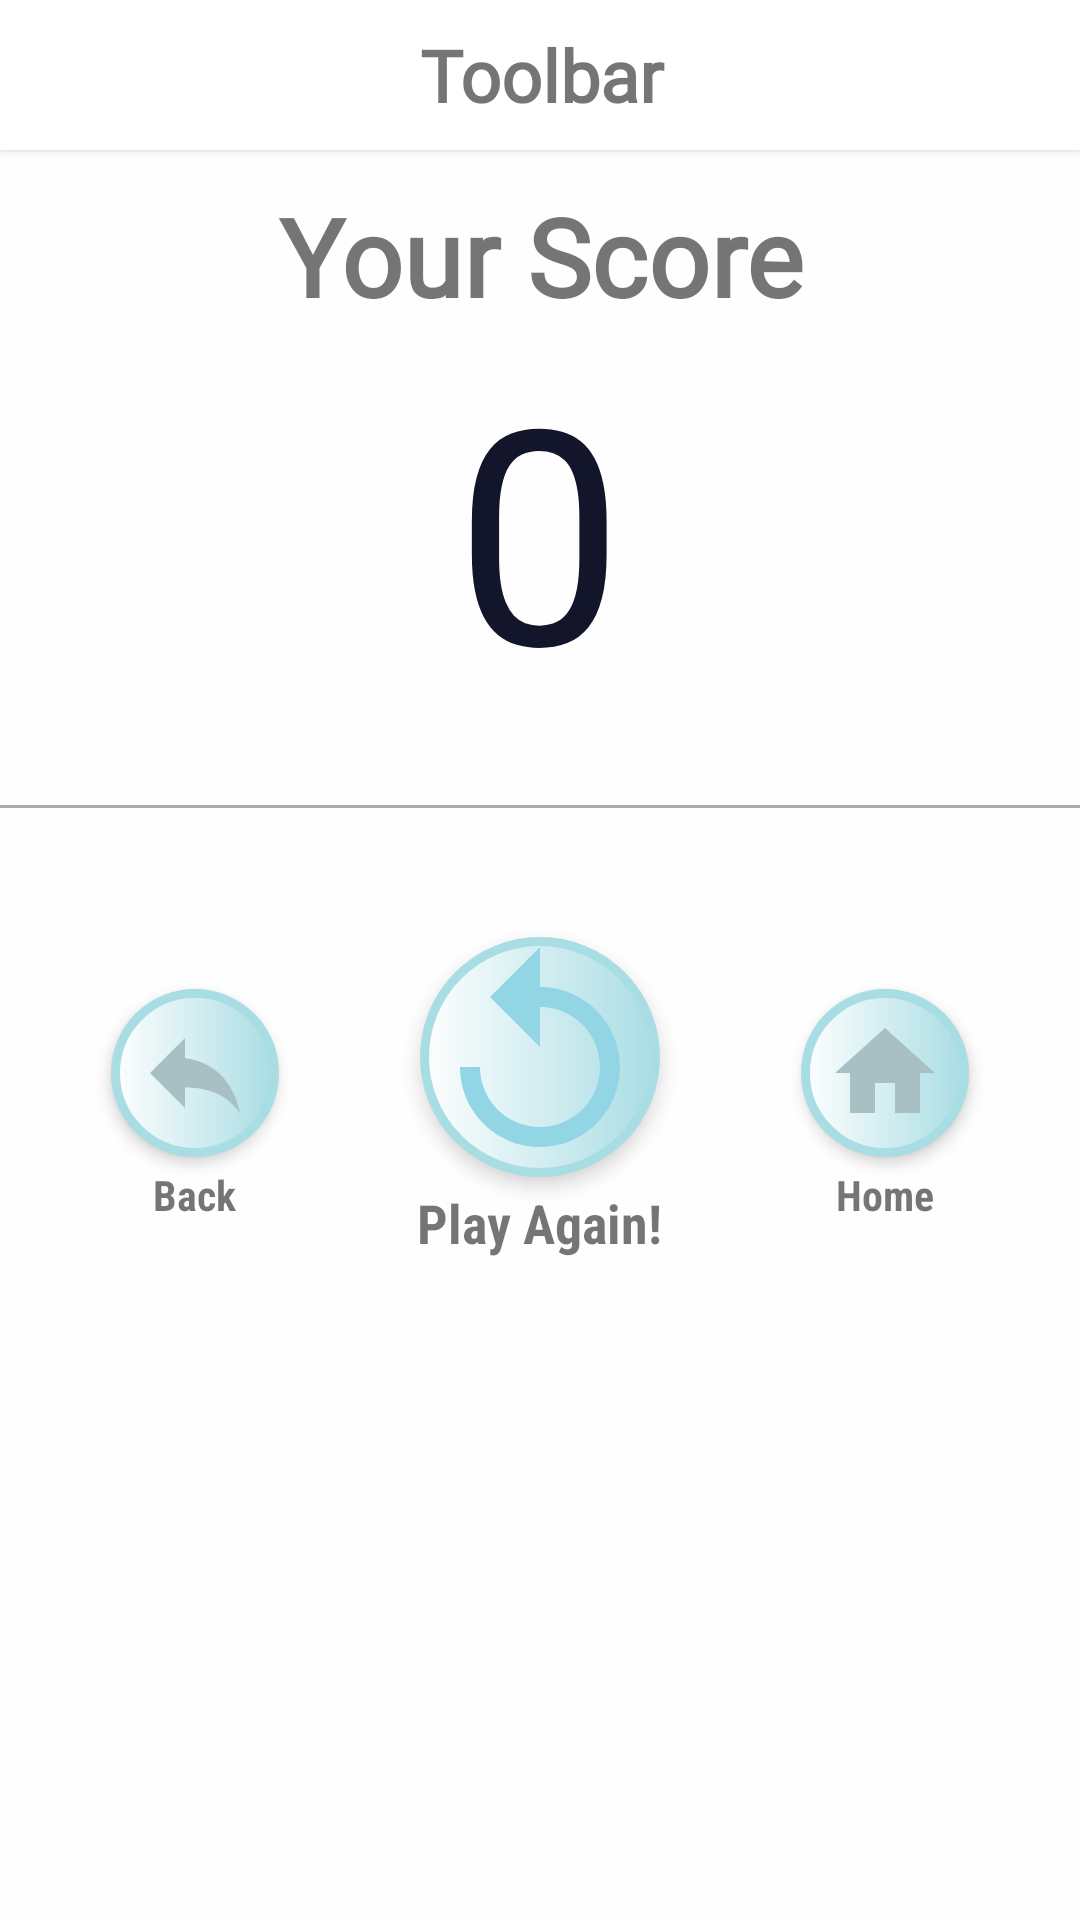

Screen size 1080×1920. Icon name, then its center in pixels as point (x, y):
reply: point (195, 1073)
